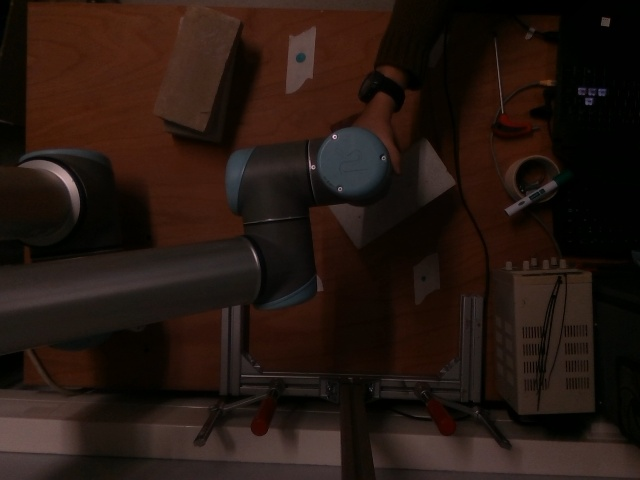brick: (151, 3, 239, 128)
